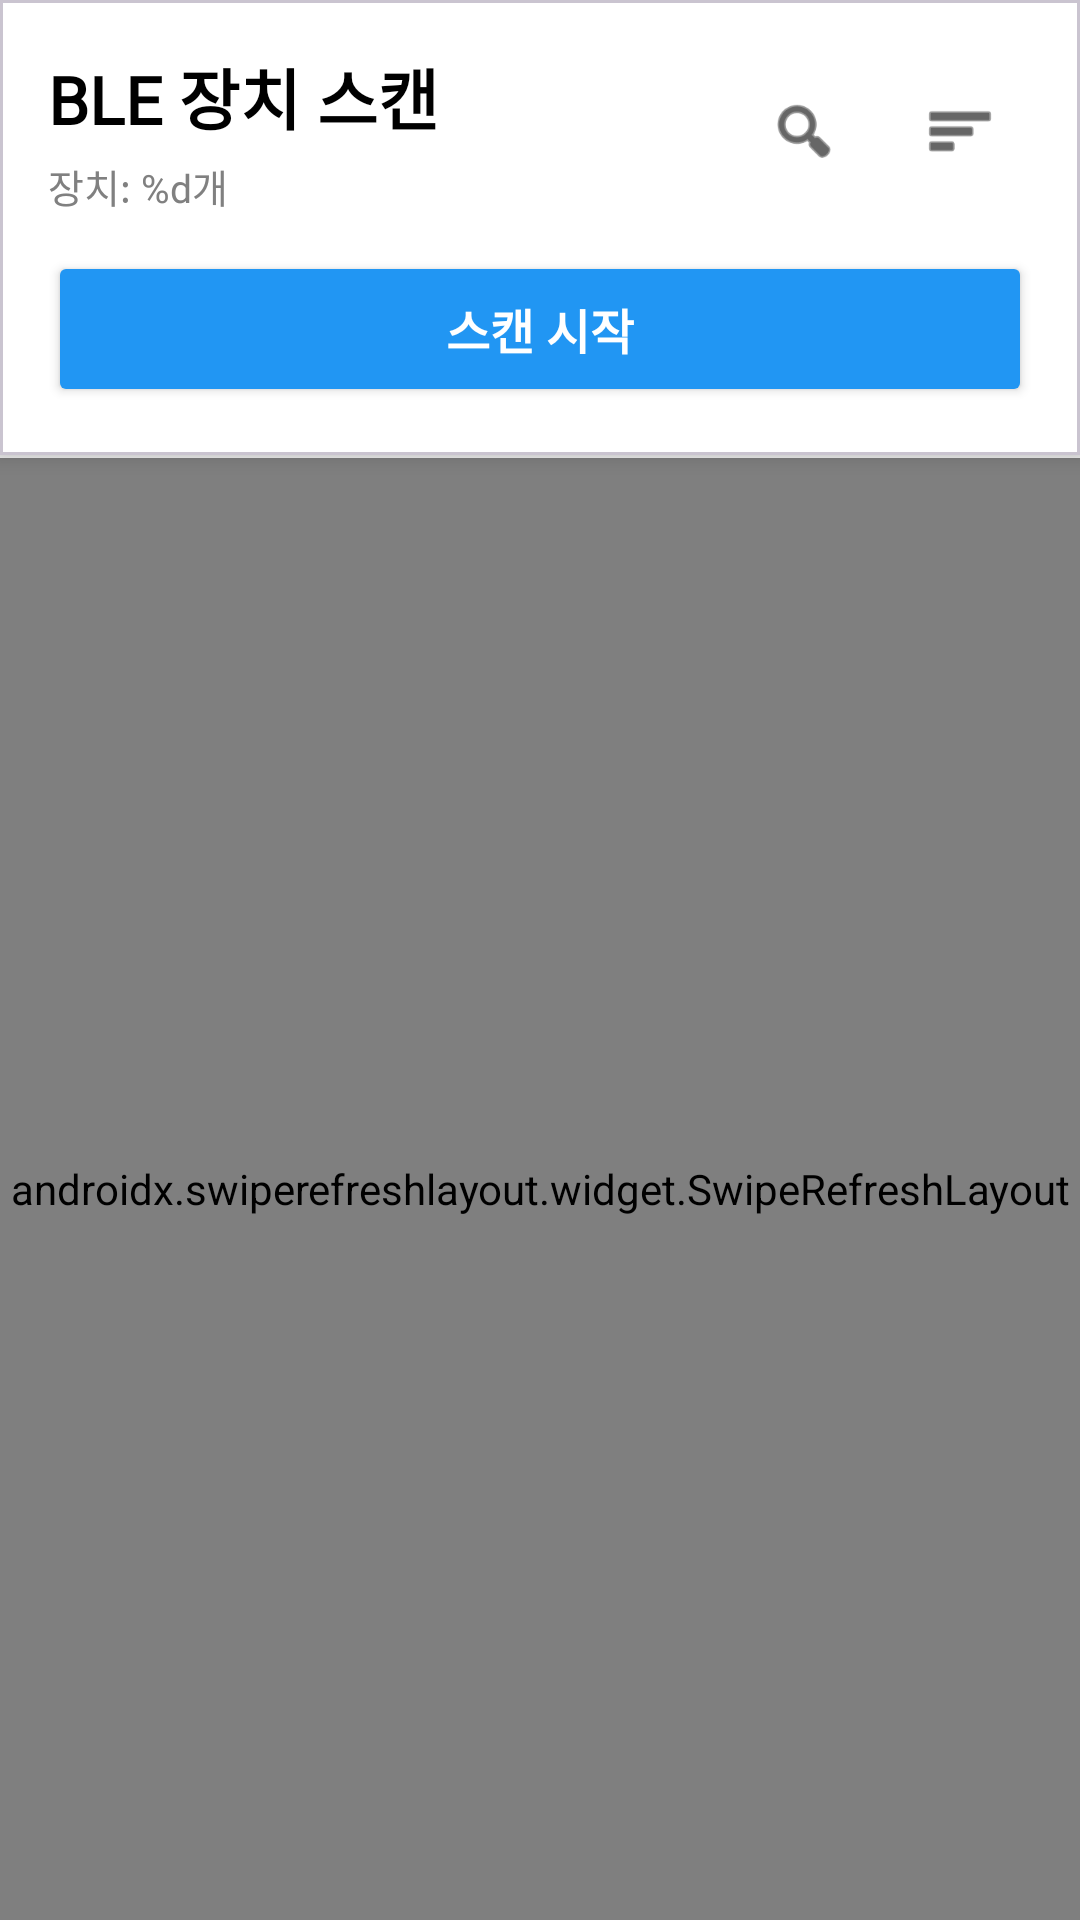

Icon click points for this 1080 × 1920 phone screenshot, format (x,y):
정렬: (960,131)
